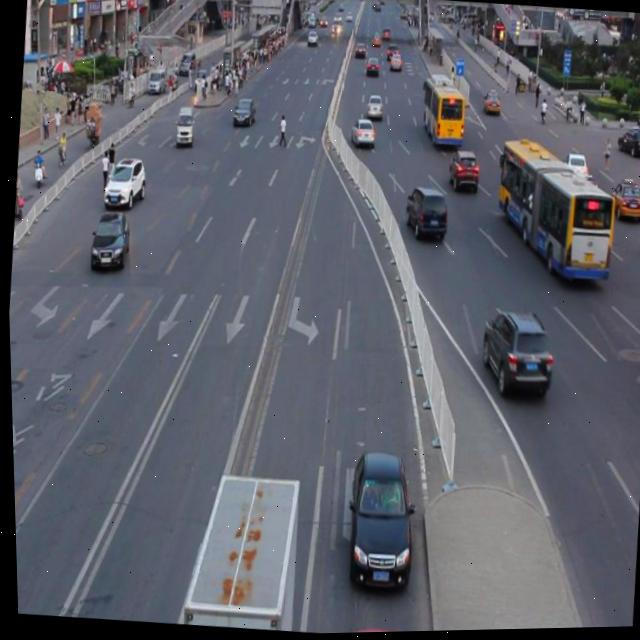bus: (176, 468, 301, 634)
car: (339, 449, 415, 591), (475, 306, 553, 401), (86, 208, 132, 275), (402, 185, 448, 244), (100, 153, 147, 210), (606, 180, 640, 221), (447, 149, 479, 192), (336, 624, 410, 634)
van: (489, 138, 617, 286)
